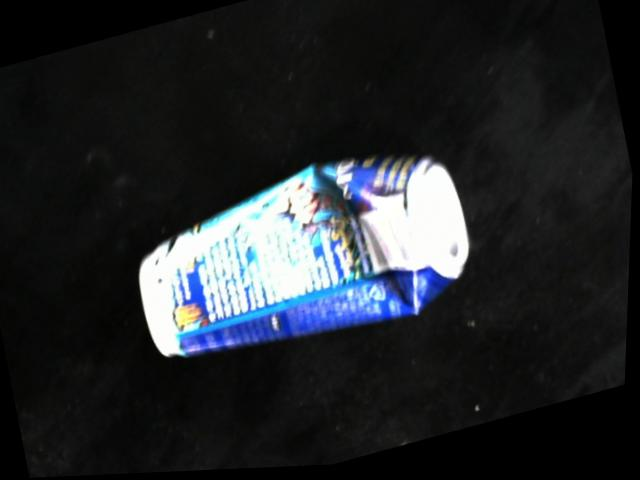can: (142, 158, 473, 360)
